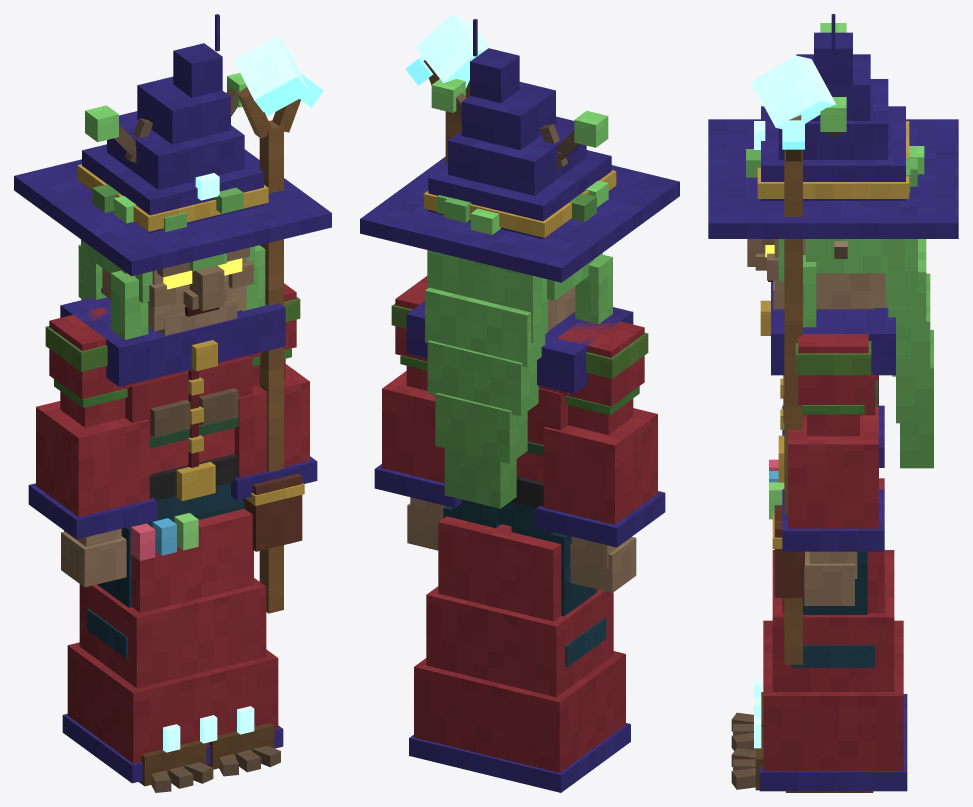
Rendered from dryad_mage.glb.
3 views of the same model, side by side, from view 1: azimuth 30°, elevation 25°; view 2: azimuth 150°, elevation 25°; view 3: azimuth 270°, elevation 25° (orthographic). The views are drawn at different scales.
Visible parts, largest first — view 1: Head, Root, Torso, ArmR, HandL, ArmL, LegR, LegL; view 2: Head, Root, ArmR, ArmL, Torso, HandL, LegR; view 3: Head, Root, ArmL, HandL, Torso, LegL, ArmR.
Part boxes in pixels (x1,y1,x2,y2): Head: (14, 14, 331, 339); Root: (62, 509, 283, 792); Torso: (60, 297, 304, 560); ArmR: (28, 307, 156, 587); HandL: (234, 36, 323, 613); ArmL: (231, 283, 317, 500); LegR: (87, 520, 206, 786); LegL: (194, 499, 274, 769); Head: (360, 19, 679, 508); Root: (409, 516, 630, 792); ArmR: (536, 321, 665, 592); ArmL: (374, 276, 461, 550); Torso: (406, 301, 633, 536); HandL: (405, 14, 490, 164); LegR: (511, 526, 606, 667); Head: (708, 14, 958, 468); Root: (731, 478, 907, 791); ArmL: (782, 334, 884, 605); HandL: (751, 55, 836, 664); Torso: (760, 282, 895, 597); LegL: (755, 551, 875, 792); ArmR: (782, 375, 884, 467).
Bounding box in the file's own units: 0.8034 × 2.23 × 0.66.
Materials: 46 (46 with a texture image).
